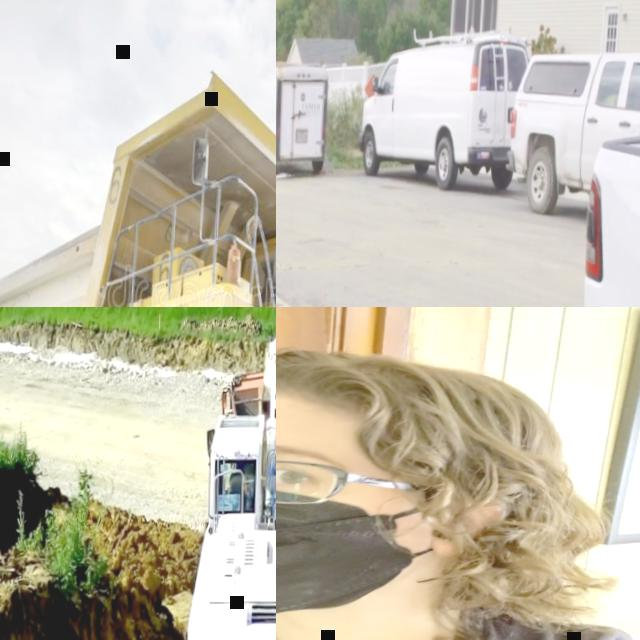machinery: (0, 53, 276, 307), (184, 307, 276, 640)
mask: (276, 476, 447, 624)
no_helmet: (276, 345, 553, 456)
person: (276, 339, 640, 640)
vehicle: (358, 28, 531, 194), (504, 44, 640, 219), (564, 115, 640, 307)
